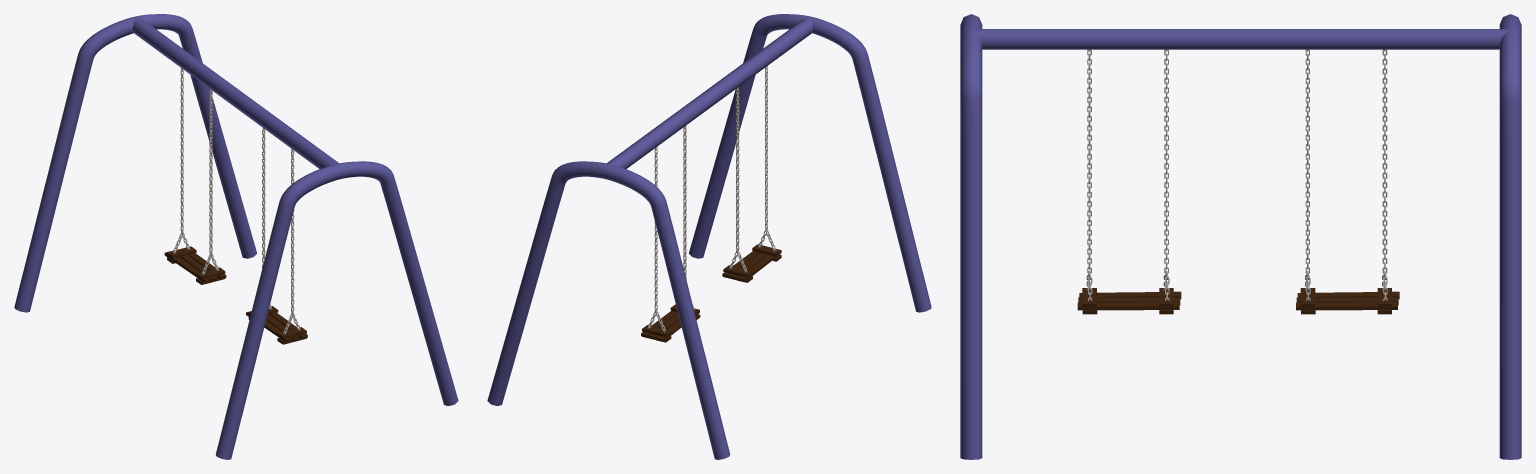
Rendered from Schaukel.fbx.
3 views of the same model, side by side, from view 1: azimuth 30°, elevation 25°; view 2: azimuth 150°, elevation 25°; view 3: azimuth 270°, elevation 25° (orthographic). The views are drawn at different scales.
Visible parts, largest first — view 1: Swing; view 2: Swing; view 3: Swing.
Boxes of the visible parts, <box> form: Swing: <box>14,14,458,459</box>; Swing: <box>487,14,931,459</box>; Swing: <box>960,14,1521,459</box>.
Bounding box in the file's own units: 338 × 358 × 509.
Materials: 1 (1 with a texture image).
